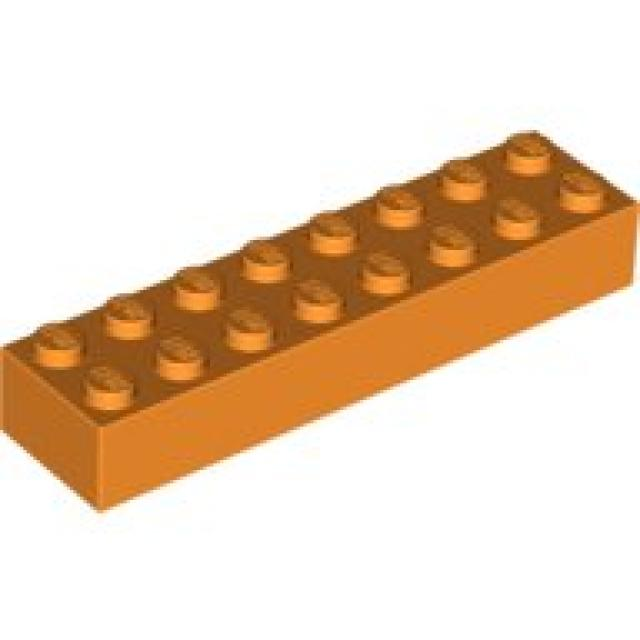Orange_Large: (0, 133, 640, 513)
